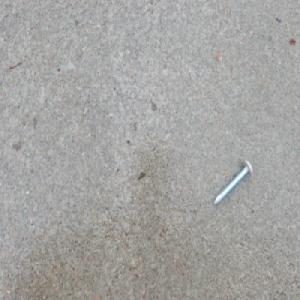Nail: (213, 157, 253, 206)
